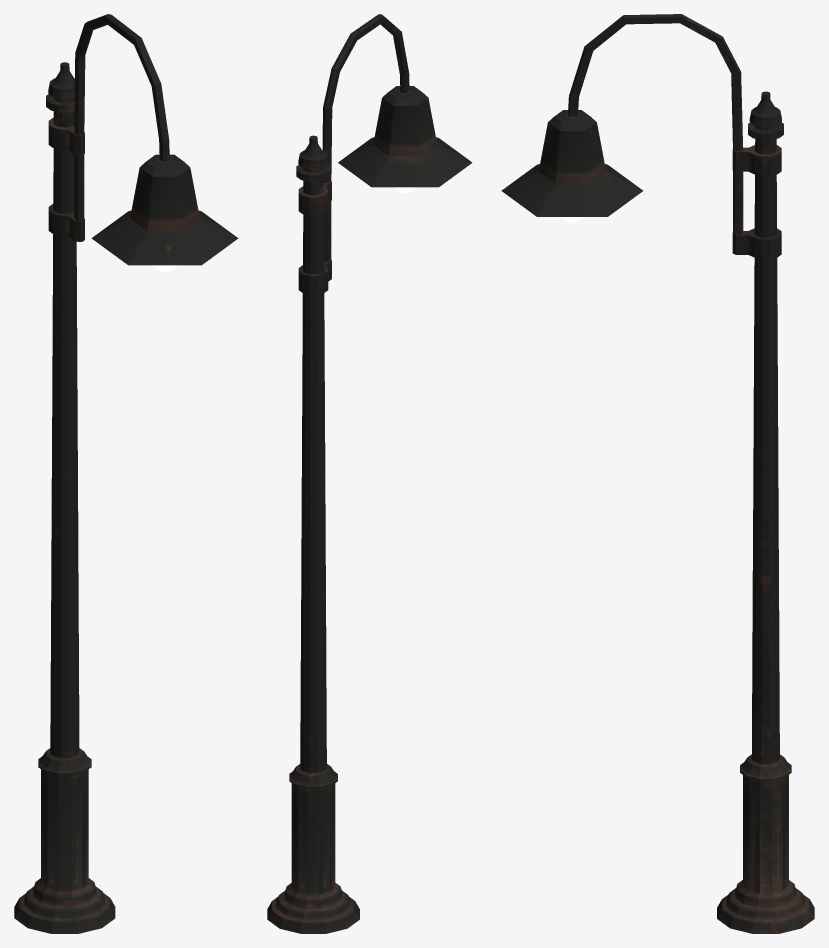
The model's file is lanternfbx.fbx.
3 renders of one model, left to right at view 1: azimuth 30°, elevation 25°; view 2: azimuth 150°, elevation 25°; view 3: azimuth 270°, elevation 25°, orthographic. The views are drawn at different scales.
Visible parts, largest first — view 1: metal street props low poly.012; view 2: metal street props low poly.012; view 3: metal street props low poly.012.
Boxes of the visible parts, <box> form: metal street props low poly.012: <box>14,14,238,933</box>; metal street props low poly.012: <box>267,14,472,933</box>; metal street props low poly.012: <box>501,14,814,933</box>.
Bounding box in the file's own units: 48.37 × 389 × 123.
